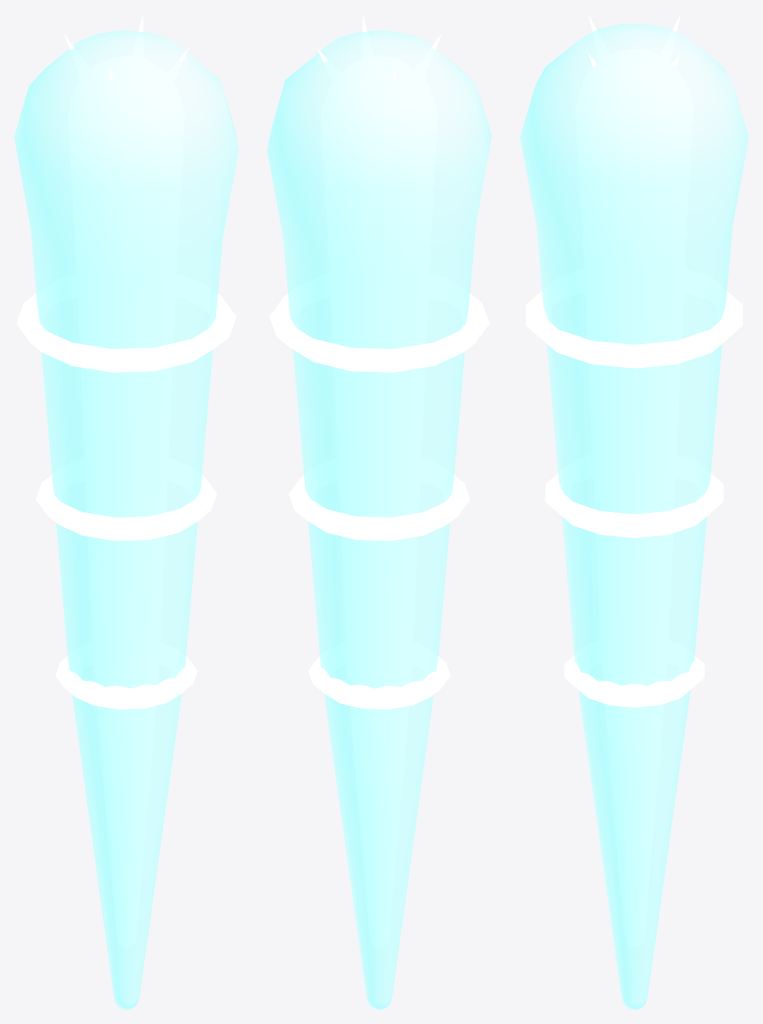
Rendered from shot.glb.
The picture shows the model from 3 angles, left to right: view 1: azimuth 30°, elevation 25°; view 2: azimuth 150°, elevation 25°; view 3: azimuth 270°, elevation 25°; orthographic projection.
Visible parts, largest first — view 1: shot; view 2: shot; view 3: shot.
Part boxes in pixels (x1,y1,x2,y2): shot: (14, 15, 238, 1009); shot: (267, 15, 491, 1009); shot: (520, 14, 748, 1009).
Bounding box in the file's own units: 0.0682 × 0.329 × 0.07.
